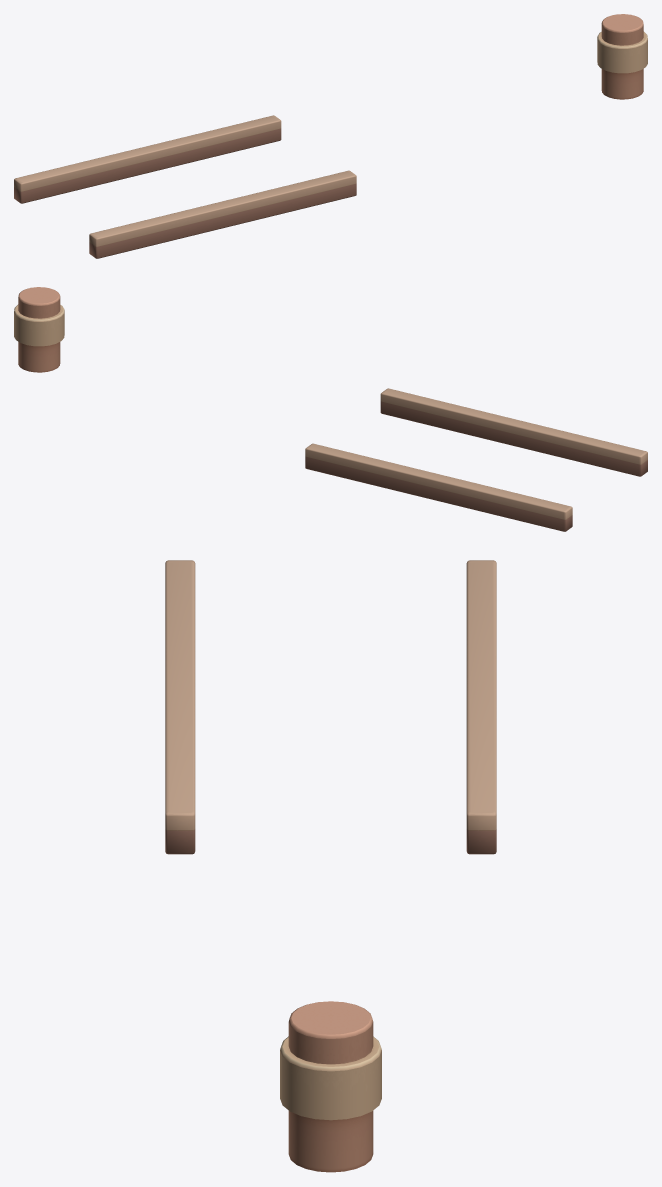
File: Props.fbx
3 views of the same model, one above another, from view 1: azimuth 30°, elevation 25°; view 2: azimuth 150°, elevation 25°; view 3: azimuth 270°, elevation 25° (orthographic). The views are drawn at different scales.
Parts seen in each view (by area): view 1: Box20-3_1 (1), Box20-3_1, Cylinder-2; view 2: Box20-3_1, Box20-3_1 (1), Cylinder-2; view 3: Cylinder-2, Box20-3_1, Box20-3_1 (1).
Part boxes in pixels (x1=…): Box20-3_1 (1): x1=89, y1=170, x2=356, y2=258; Box20-3_1: x1=14, y1=115, x2=281, y2=203; Cylinder-2: x1=597, y1=14, x2=647, y2=99; Box20-3_1: x1=305, y1=443, x2=572, y2=531; Box20-3_1 (1): x1=380, y1=388, x2=647, y2=476; Cylinder-2: x1=14, y1=287, x2=64, y2=372; Cylinder-2: x1=280, y1=1001, x2=381, y2=1172; Box20-3_1: x1=466, y1=560, x2=496, y2=854; Box20-3_1 (1): x1=165, y1=560, x2=195, y2=854.
Bounding box in the file's own units: 45.19 × 5 × 11.
